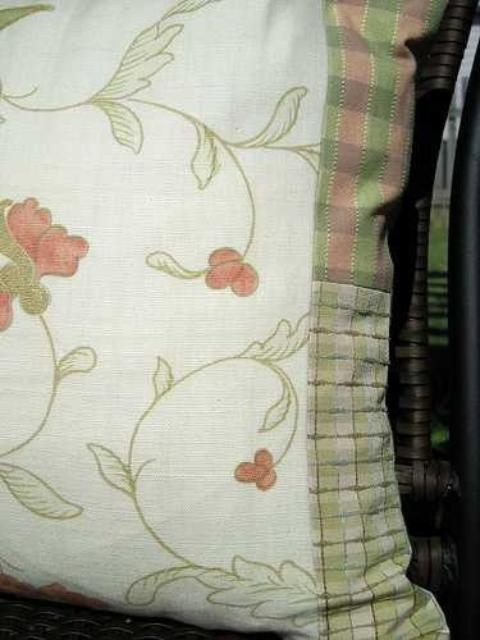pillow: (0, 0, 464, 638)
